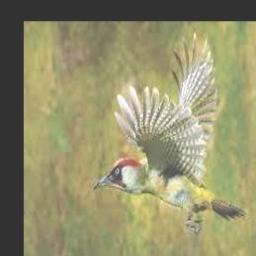Woodpecker: (93, 32, 248, 234)
